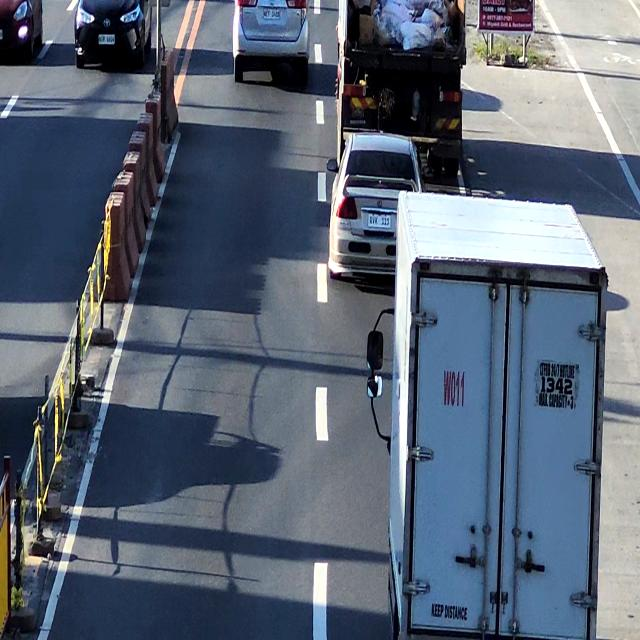Car: (325, 134, 420, 271), (232, 0, 308, 82)
License-Plate: (367, 210, 391, 229), (260, 6, 283, 20)
Truck: (395, 189, 597, 640), (330, 0, 465, 141)
